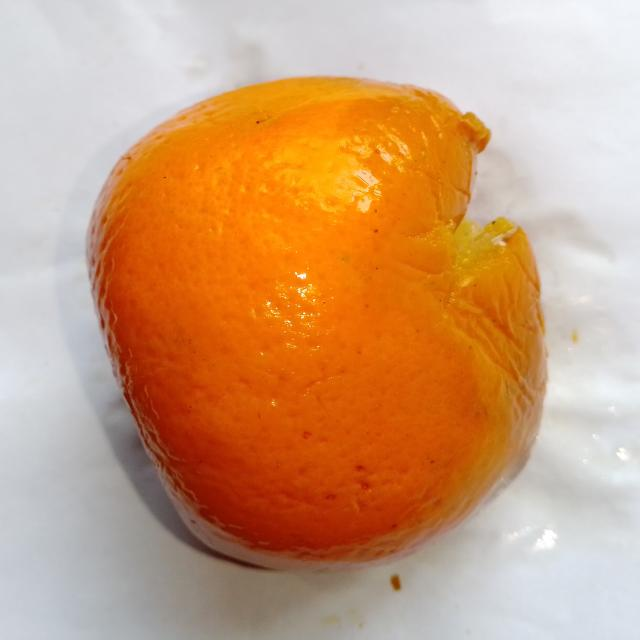orange: (89, 78, 545, 568)
